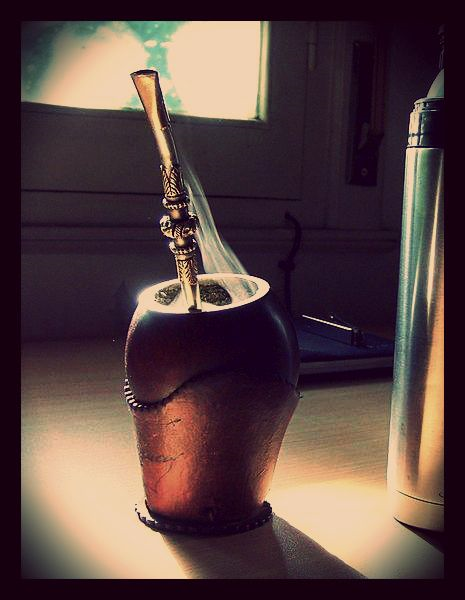calabaza: (106, 60, 307, 542)
mate: (108, 62, 309, 544)
